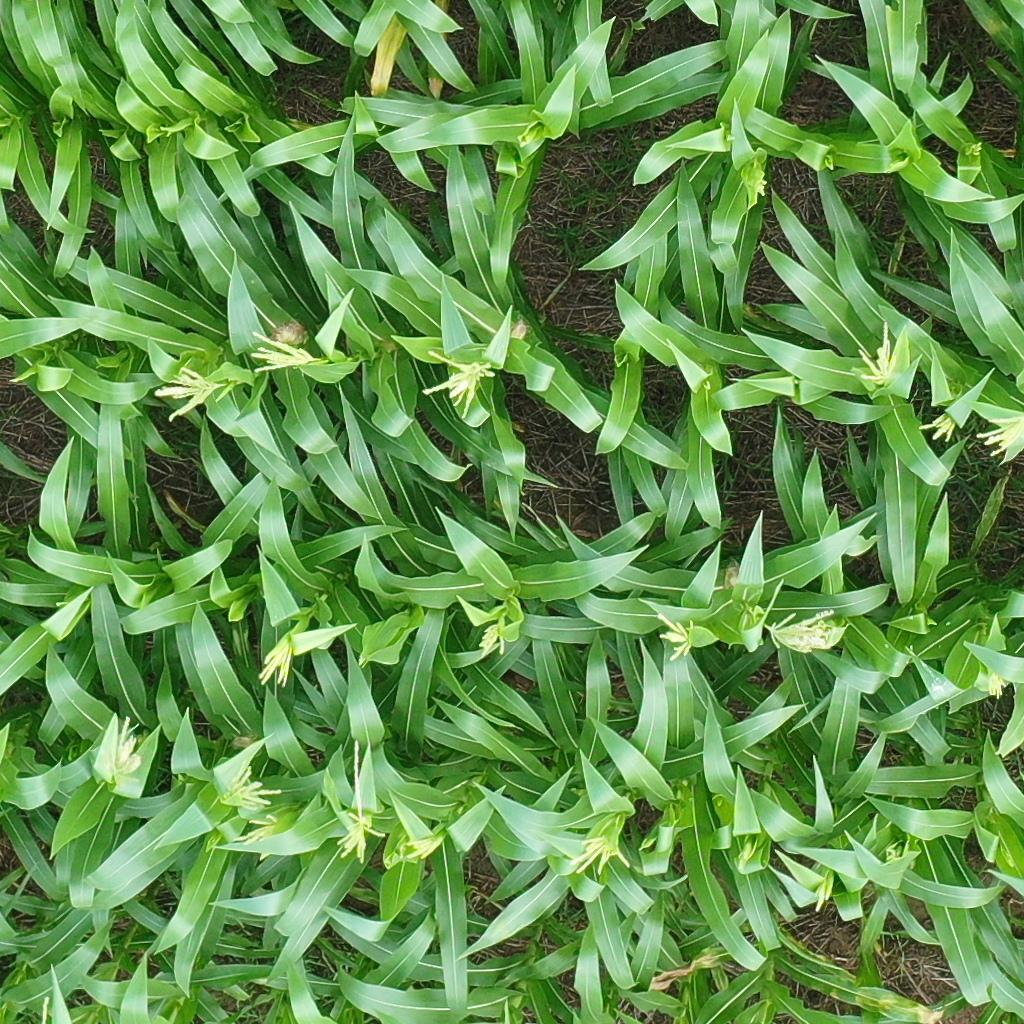Tassel: (752, 575, 839, 658), (332, 738, 386, 865), (416, 345, 495, 417), (217, 767, 284, 846), (148, 364, 228, 422), (851, 319, 903, 390), (252, 325, 317, 372), (979, 396, 1019, 464), (571, 833, 635, 875), (105, 713, 145, 775), (258, 633, 300, 687), (654, 606, 696, 659), (915, 406, 957, 444), (396, 830, 448, 859), (983, 659, 1012, 704), (477, 621, 509, 661), (810, 869, 831, 912), (746, 164, 771, 199), (734, 838, 757, 869), (881, 843, 904, 867)
